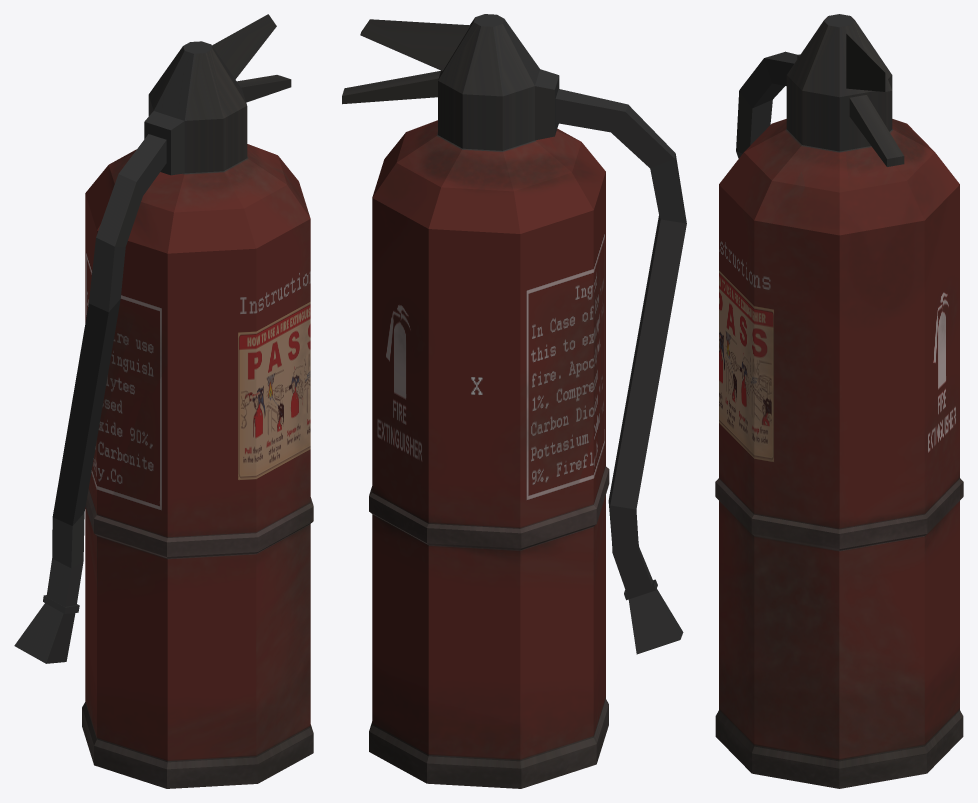
The model's file is FireExtinguisher.fbx.
The picture shows the model from 3 angles, left to right: view 1: azimuth 30°, elevation 25°; view 2: azimuth 150°, elevation 25°; view 3: azimuth 270°, elevation 25°; orthographic projection. The views are drawn at different scales.
Parts seen in each view (by area): view 1: Cylinder; view 2: Cylinder; view 3: Cylinder.
Part boxes in pixels (<box>): Cylinder: <box>14,14,313,788</box>; Cylinder: <box>342,14,686,788</box>; Cylinder: <box>715,14,963,788</box>.
Size of the model in its own units: 22.32 by 49.11 by 15.42.
1 material, 1 textured.
